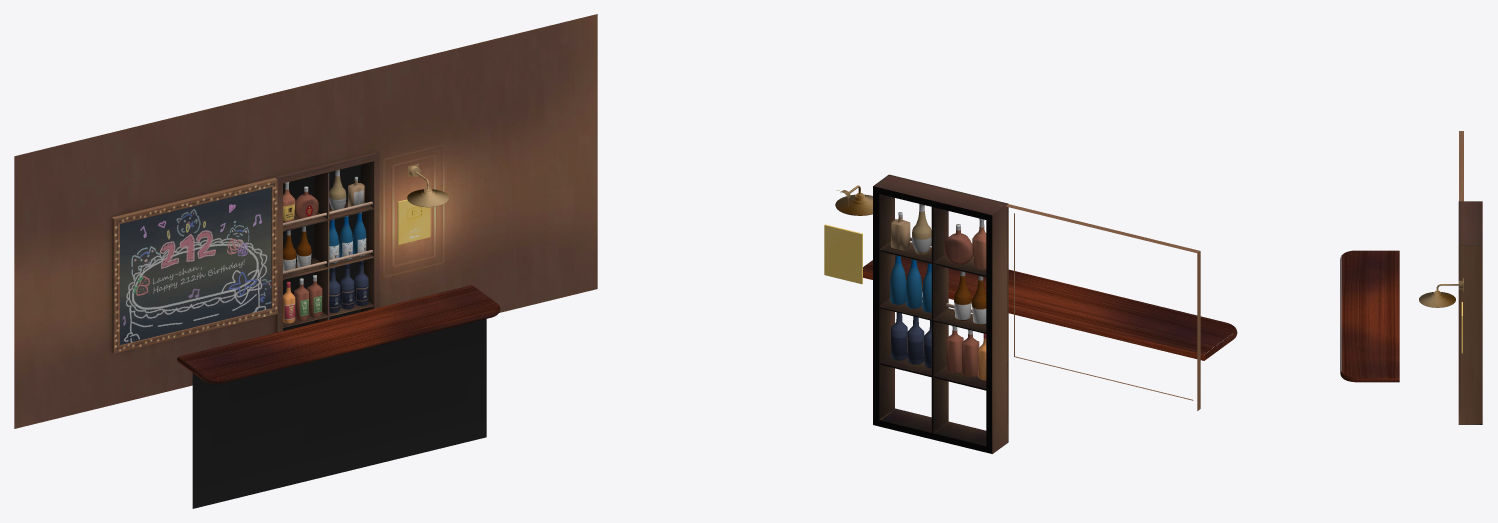
The model's file is bar_yukihana.glb.
The picture shows the model from 3 angles, left to right: view 1: azimuth 30°, elevation 25°; view 2: azimuth 150°, elevation 25°; view 3: azimuth 270°, elevation 25°; orthographic projection. The views are drawn at different scales.
Parts seen in each view (by area): view 1: w, c, f, shelf, backpanel, playbutton, s; view 2: shelf, c, playbutton, f, upp2, s; view 3: c, shelf, s, f.
Part boxes in pixels (bbox=[...]): w: bbox=[14, 14, 597, 428]; c: bbox=[177, 285, 500, 508]; f: bbox=[111, 177, 277, 353]; shelf: bbox=[275, 152, 379, 332]; backpanel: bbox=[283, 164, 360, 330]; playbutton: bbox=[397, 199, 430, 244]; s: bbox=[407, 164, 448, 207]; shelf: bbox=[873, 174, 1008, 453]; c: bbox=[863, 255, 1237, 360]; playbutton: bbox=[824, 224, 862, 284]; f: bbox=[1005, 204, 1200, 410]; upp2: bbox=[944, 224, 972, 264]; s: bbox=[835, 185, 872, 215]; c: bbox=[1340, 250, 1399, 382]; shelf: bbox=[1458, 201, 1482, 424]; s: bbox=[1419, 278, 1463, 307]; f: bbox=[1459, 131, 1463, 201].
Size of the model in its own units: 4.48 by 2.54 by 1.08.
Materials: 20 (19 with a texture image).
